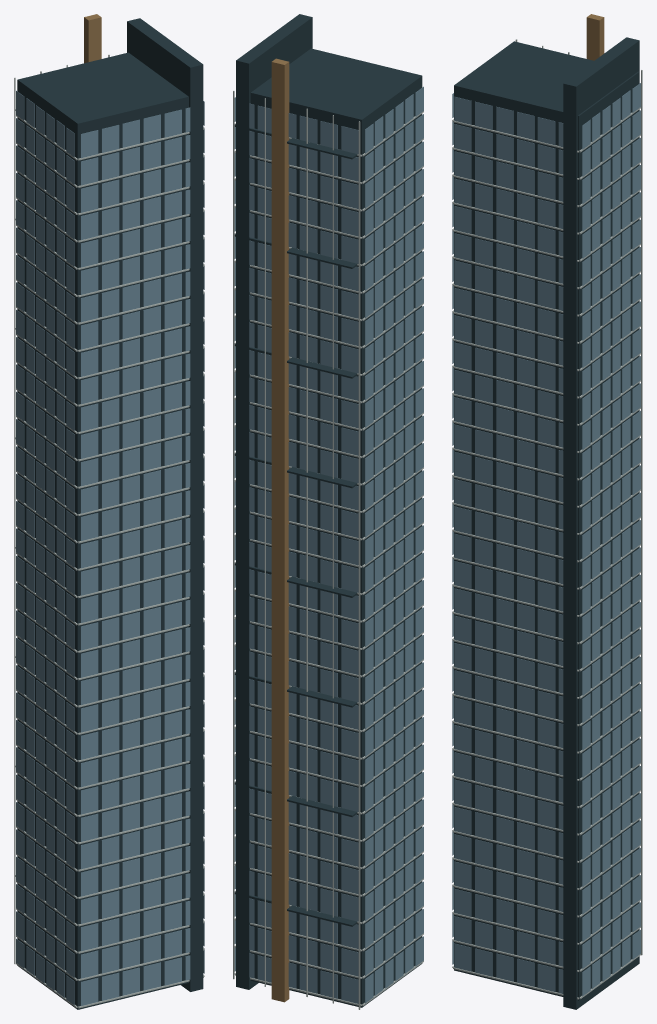
Rendered from KOL_T1_TRUMP__Tower.fbx.
3 renders of one model, left to right at view 1: azimuth 30°, elevation 25°; view 2: azimuth 150°, elevation 25°; view 3: azimuth 330°, elevation 25°, orthographic.
Visible parts, largest first — view 1: KOL_T1_TRUMP__Tower__KOL_T1_GlassBlue, KOL_T1_TRUMP__Tower__KOL_T1_Graphite, KOL_T1_TRUMP__Tower__KOL_T1_GlassBlue.001, KOL_T1_TRUMP__Tower__KOL_T1_Silver, KOL_T1_TRUMP__Tower__KOL_T1_WarmWindow, KOL_T1_TRUMP__Tower__KOL_T1_Bronze; view 2: KOL_T1_TRUMP__Tower__KOL_T1_GlassBlue, KOL_T1_TRUMP__Tower__KOL_T1_Graphite, KOL_T1_TRUMP__Tower__KOL_T1_GlassBlue.001, KOL_T1_TRUMP__Tower__KOL_T1_Silver, KOL_T1_TRUMP__Tower__KOL_T1_Bronze, KOL_T1_TRUMP__Tower__KOL_T1_WarmWindow; view 3: KOL_T1_TRUMP__Tower__KOL_T1_GlassBlue, KOL_T1_TRUMP__Tower__KOL_T1_Graphite, KOL_T1_TRUMP__Tower__KOL_T1_GlassBlue.001, KOL_T1_TRUMP__Tower__KOL_T1_Silver, KOL_T1_TRUMP__Tower__KOL_T1_WarmWindow, KOL_T1_TRUMP__Tower__KOL_T1_Bronze.
Part boxes in pixels (x1,y1,x2,y2): KOL_T1_TRUMP__Tower__KOL_T1_GlassBlue: (16, 391, 204, 1005); KOL_T1_TRUMP__Tower__KOL_T1_Graphite: (15, 18, 203, 1009); KOL_T1_TRUMP__Tower__KOL_T1_GlassBlue.001: (16, 90, 204, 431); KOL_T1_TRUMP__Tower__KOL_T1_Silver: (14, 54, 204, 1008); KOL_T1_TRUMP__Tower__KOL_T1_WarmWindow: (36, 105, 181, 985); KOL_T1_TRUMP__Tower__KOL_T1_Bronze: (84, 14, 101, 63); KOL_T1_TRUMP__Tower__KOL_T1_GlassBlue: (234, 388, 423, 1003); KOL_T1_TRUMP__Tower__KOL_T1_Graphite: (234, 14, 422, 1007); KOL_T1_TRUMP__Tower__KOL_T1_GlassBlue.001: (234, 86, 423, 428); KOL_T1_TRUMP__Tower__KOL_T1_Silver: (233, 90, 423, 1009); KOL_T1_TRUMP__Tower__KOL_T1_Bronze: (271, 58, 289, 1002); KOL_T1_TRUMP__Tower__KOL_T1_WarmWindow: (288, 109, 423, 1003); KOL_T1_TRUMP__Tower__KOL_T1_GlassBlue: (452, 383, 640, 996); KOL_T1_TRUMP__Tower__KOL_T1_Graphite: (454, 37, 639, 1009); KOL_T1_TRUMP__Tower__KOL_T1_GlassBlue.001: (452, 83, 640, 449); KOL_T1_TRUMP__Tower__KOL_T1_Silver: (452, 39, 642, 999); KOL_T1_TRUMP__Tower__KOL_T1_WarmWindow: (452, 112, 630, 991); KOL_T1_TRUMP__Tower__KOL_T1_Bronze: (586, 14, 604, 60).
Bounding box in the file's own units: 49.84 × 342 × 44.75.
